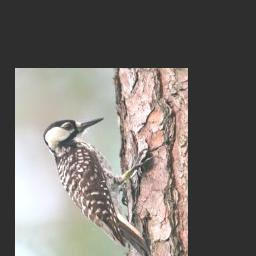Woodpecker: (43, 117, 158, 256)
